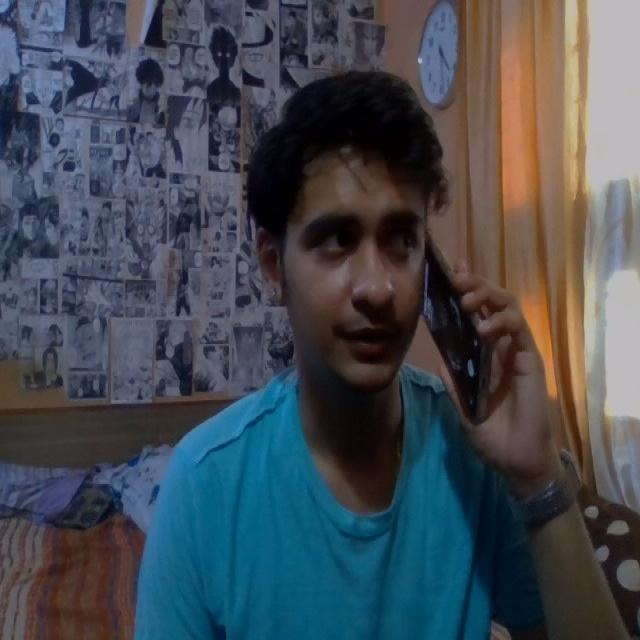oncall: (210, 36, 535, 468)
phone: (404, 221, 501, 435)
